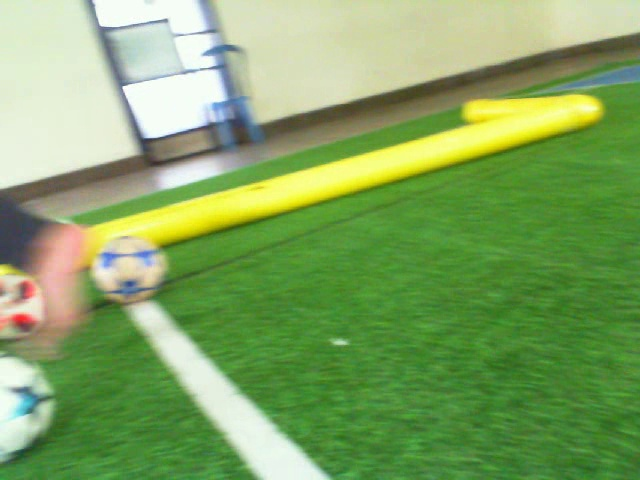ball: (1, 349, 60, 470), (89, 231, 170, 310), (1, 270, 48, 344)
